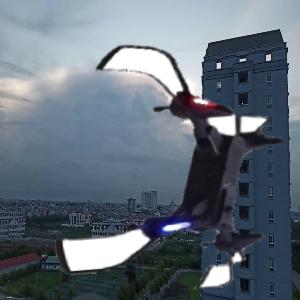drone: (38, 36, 300, 299)
